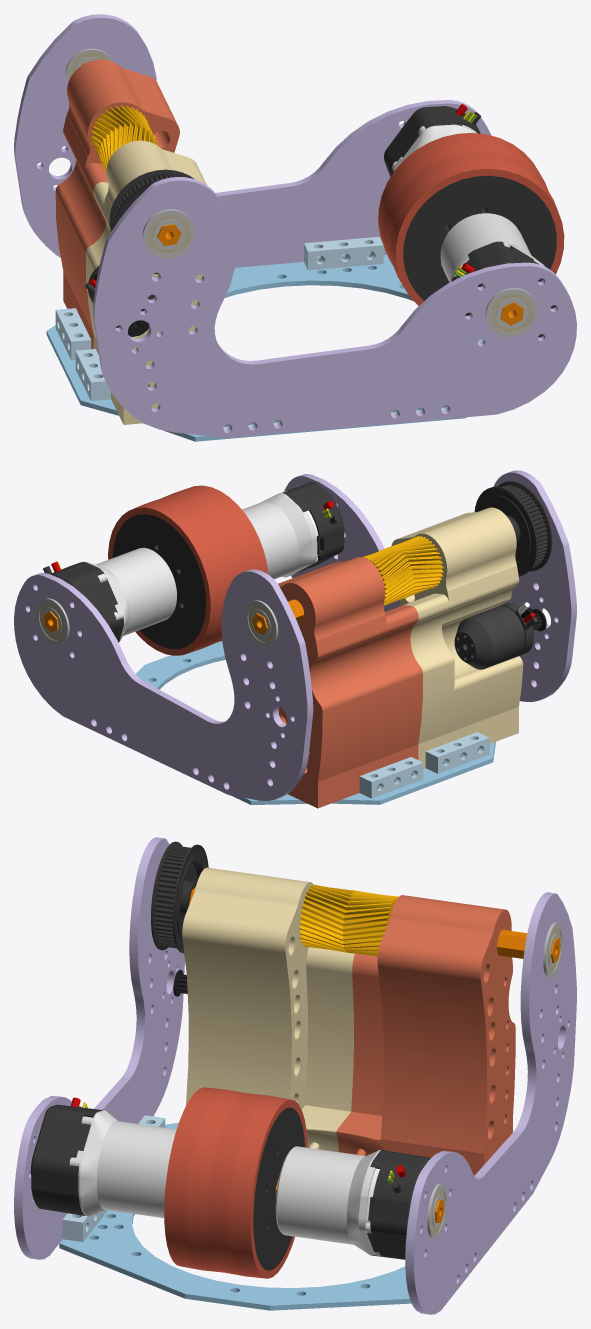
3 views of the same model, one above another, from view 1: azimuth 30°, elevation 25°; view 2: azimuth 150°, elevation 25°; view 3: azimuth 270°, elevation 25° (orthographic). The views are drawn at different scales.
Parts seen in each view (by area): view 1: 5655-20-01(4 adet) (×2), 4" Stealth Wheel (40A, 1/2" Hex Bore) (×2), Part 10, 5655-20-02(2adet), Part 8, 1/2" Hex Bore Bearing (1.125" OD, 0.313" WD, Shielded, Flang (×3), id46 (×2), SPARK Flex Brushless Motor Controller (×2), Part 5, Part 13, 60t Aluminum Pulley (GT2 3mm, 9mm Wide, 1/2" Hex Bore), Part 15 (+1 smaller); view 2: 5655-20-01(4 adet) (×2), Part 10, Part 8, 4" Stealth Wheel (40A, 1/2" Hex Bore) (×2), id46 (×2), SPARK Flex Brushless Motor Controller (×2), NEO 550 Brushless Motor, 5655-20-02(2adet), 60t Aluminum Pulley (GT2 3mm, 9mm Wide, 1/2" Hex Bore), Part 5, 1/2" Hex Bore Bearing (1.125" OD, 0.313" WD, Shielded, Flang (×2), Part 15 (+2 smaller); view 3: 5655-20-01(4 adet) (×2), Part 10, Part 8, 4" Stealth Wheel (40A, 1/2" Hex Bore) (×2), id46 (×2), 5655-20-02(2adet), SPARK Flex Brushless Motor Controller (×2), Part 5, 60t Aluminum Pulley (GT2 3mm, 9mm Wide, 1/2" Hex Bore), 1/2" Hex Bore Bearing (1.125" OD, 0.313" WD, Shielded, Flang (×2), 5655-20-3( 4adet), Part 13.
Boxes of the visible parts, x1,y1,x2,y2 form: 5655-20-01(4 adet) (×2): (14, 14, 576, 438); 4" Stealth Wheel (40A, 1/2" Hex Bore) (×2): (378, 133, 564, 305); Part 10: (55, 59, 179, 349); 5655-20-02(2adet): (46, 254, 482, 441); Part 8: (85, 140, 206, 424); 1/2" Hex Bore Bearing (1.125" OD, 0.313" WD, Shielded, Flang (×3): (65, 48, 537, 337); id46 (×2): (392, 124, 545, 282); SPARK Flex Brushless Motor Controller (×2): (384, 104, 555, 337); Part 5: (90, 105, 158, 171); Part 13: (304, 237, 383, 270); 60t Aluminum Pulley (GT2 3mm, 9mm Wide, 1/2" Hex Bore): (109, 169, 193, 274); Part 15: (75, 349, 110, 400); 5655-20-01(4 adet) (×2): (14, 470, 576, 800); Part 10: (278, 556, 422, 808); Part 8: (391, 507, 523, 768); 4" Stealth Wheel (40A, 1/2" Hex Bore) (×2): (108, 485, 268, 655); id46 (×2): (72, 490, 317, 642); SPARK Flex Brushless Motor Controller (×2): (43, 482, 344, 641); NEO 550 Brushless Motor: (454, 602, 537, 669); 5655-20-02(2adet): (136, 641, 495, 804); 60t Aluminum Pulley (GT2 3mm, 9mm Wide, 1/2" Hex Bore): (474, 481, 552, 576); Part 5: (363, 536, 443, 605); 1/2" Hex Bore Bearing (1.125" OD, 0.313" WD, Shielded, Flang (×2): (36, 598, 278, 646); Part 15: (425, 732, 489, 773); 5655-20-01(4 adet) (×2): (14, 837, 576, 1314); Part 10: (336, 895, 515, 1175); Part 8: (182, 867, 354, 1151); 4" Stealth Wheel (40A, 1/2" Hex Bore) (×2): (164, 1087, 307, 1278); id46 (×2): (69, 1110, 380, 1255); 5655-20-02(2adet): (59, 1122, 411, 1310); SPARK Flex Brushless Motor Controller (×2): (31, 1097, 429, 1259); Part 5: (299, 884, 398, 956); 60t Aluminum Pulley (GT2 3mm, 9mm Wide, 1/2" Hex Bore): (151, 841, 208, 953); 1/2" Hex Bore Bearing (1.125" OD, 0.313" WD, Shielded, Flang (×2): (427, 922, 563, 1238); 5655-20-3( 4adet): (189, 887, 560, 963); Part 13: (62, 1210, 107, 1241).
Size of the model in its own units: 0.347 by 0.1718 by 0.3133.
